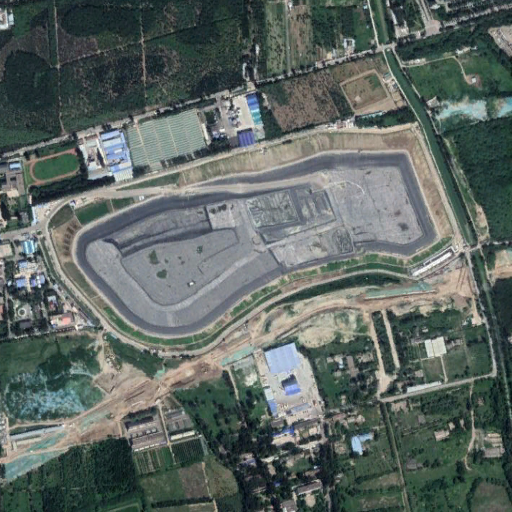lf: (47, 129, 463, 351)
